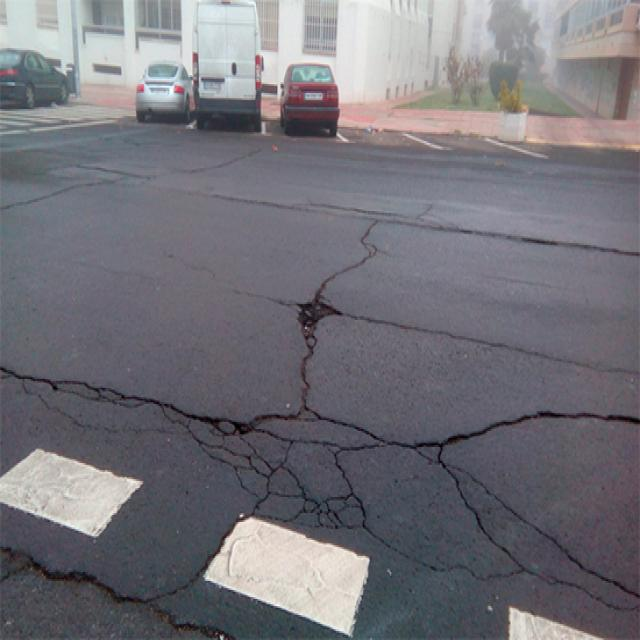Drain Hole: (250, 174, 640, 640)
